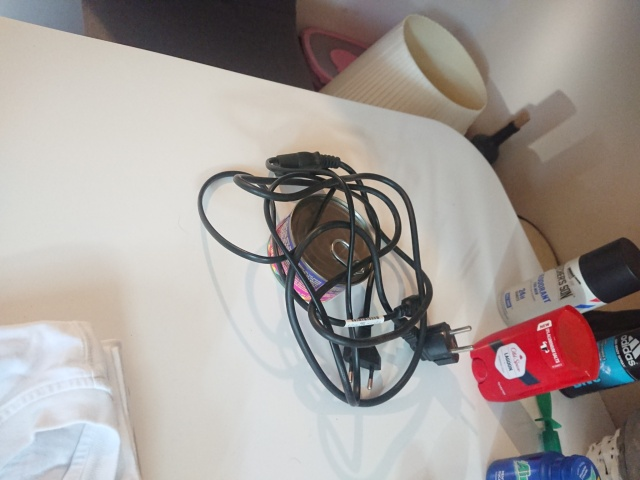Giana Tuna Salad Mexico 185g: (264, 192, 382, 307)
